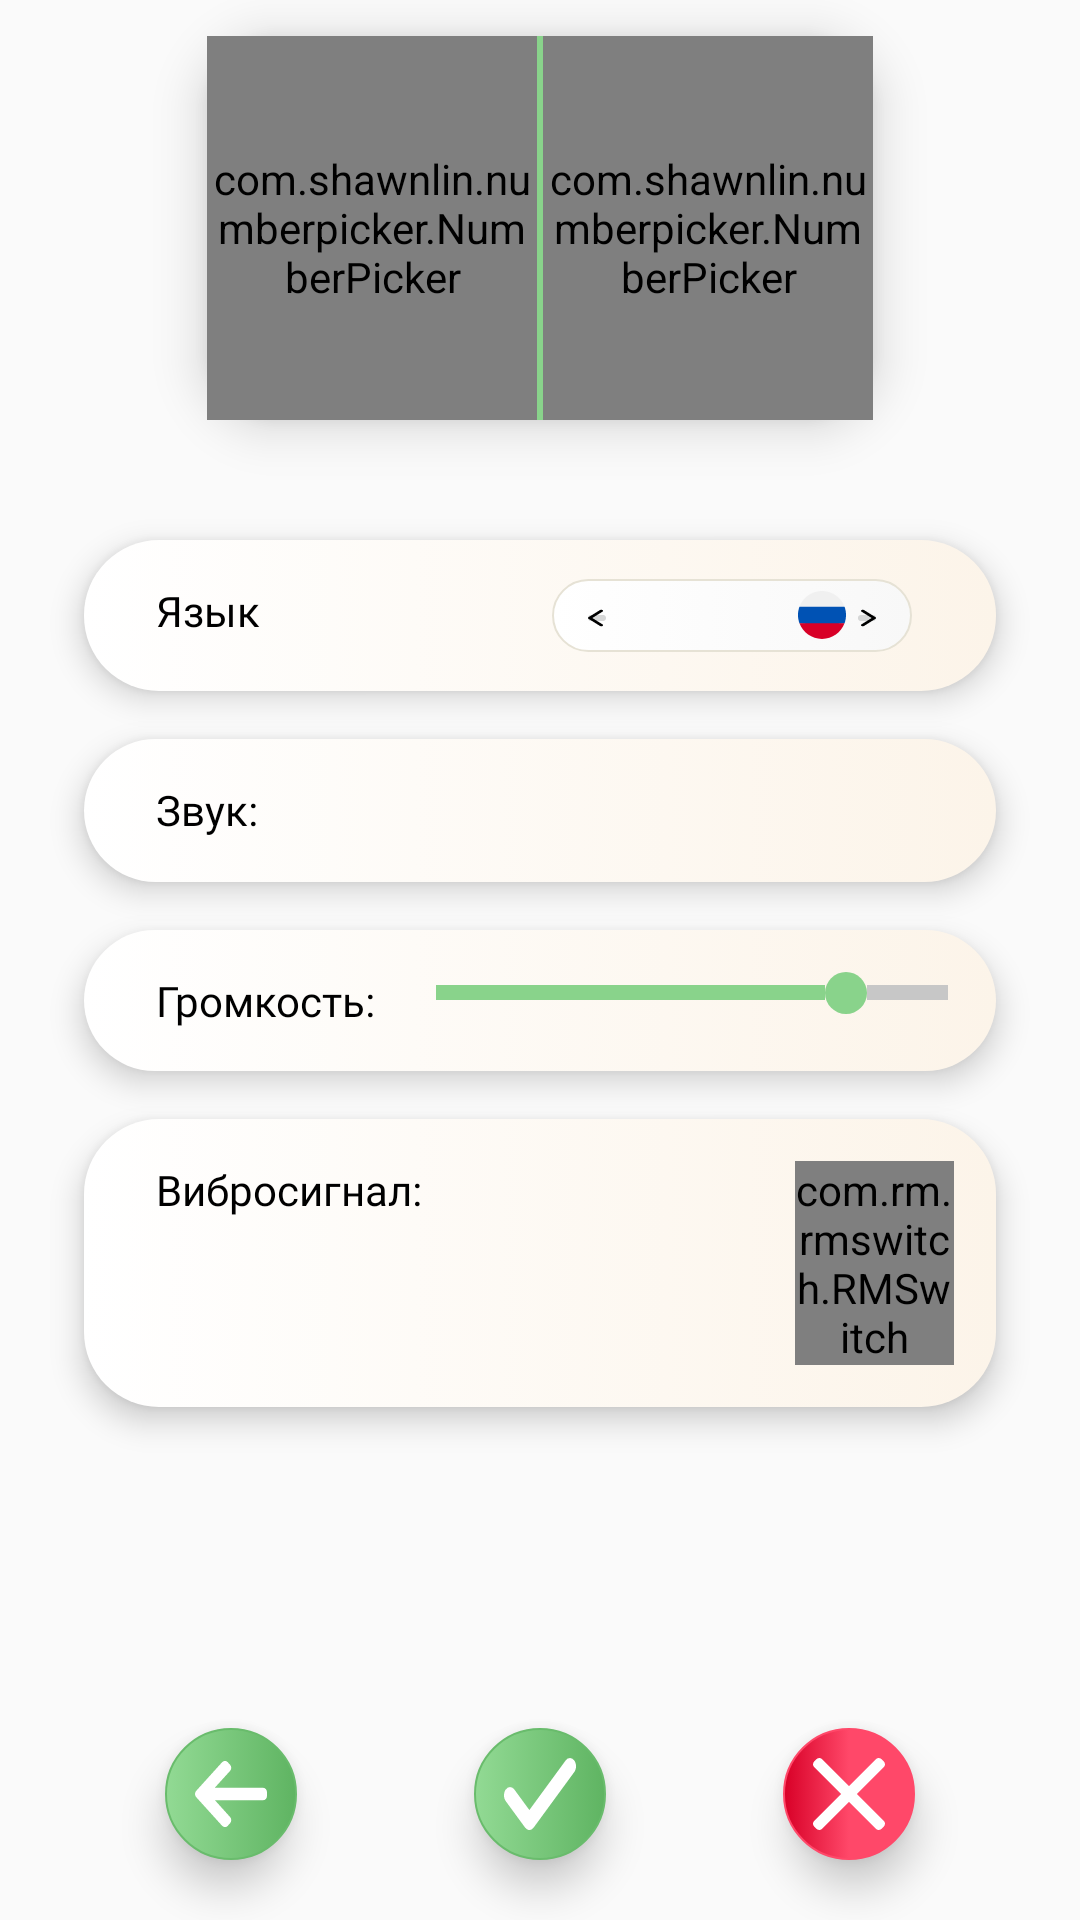

Icons on this 1080*1920 Android screen, each with the point to tap as (x,y):
cancel: (849,1800)
left arroy: (230,1800)
russia: (822,622)
sucess: (540,1800)
